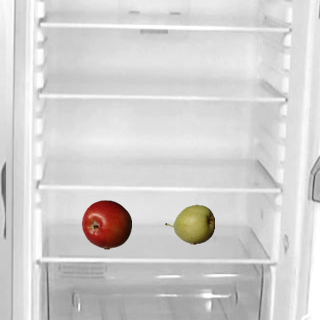Apple Braeburn: (81, 199, 131, 249)
Pear: (164, 199, 214, 249)
